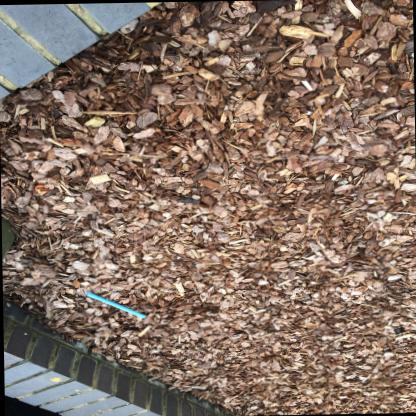Metal: (392, 326, 404, 334), (381, 349, 391, 355)
Plastic: (85, 290, 145, 317)
